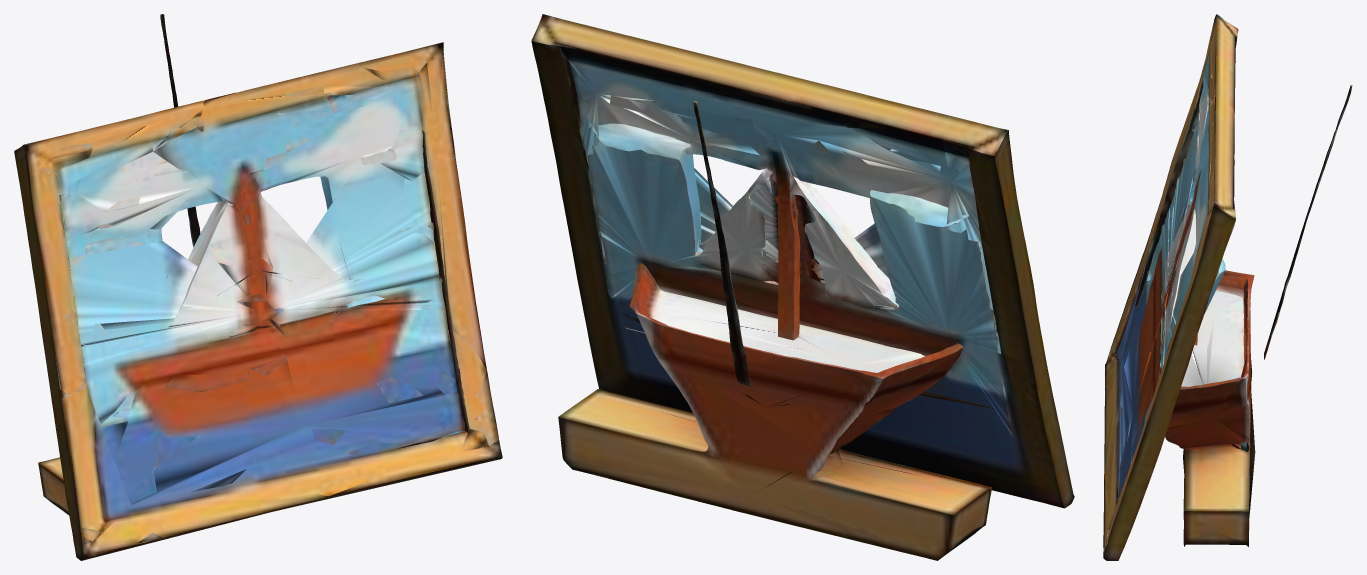
3 renders of one model, left to right at view 1: azimuth 30°, elevation 25°; view 2: azimuth 150°, elevation 25°; view 3: azimuth 270°, elevation 25°, orthographic. The views are drawn at different scales.
Visible parts, largest first — view 1: world; view 2: world; view 3: world.
Boxes of the visible parts, bbox=[...] form: world: bbox=[14, 14, 502, 560]; world: bbox=[531, 14, 1074, 560]; world: bbox=[1103, 14, 1352, 560].
Size of the model in its own units: 0.4128 by 0.3932 by 0.2252.
Materials: 1 (1 with a texture image).
